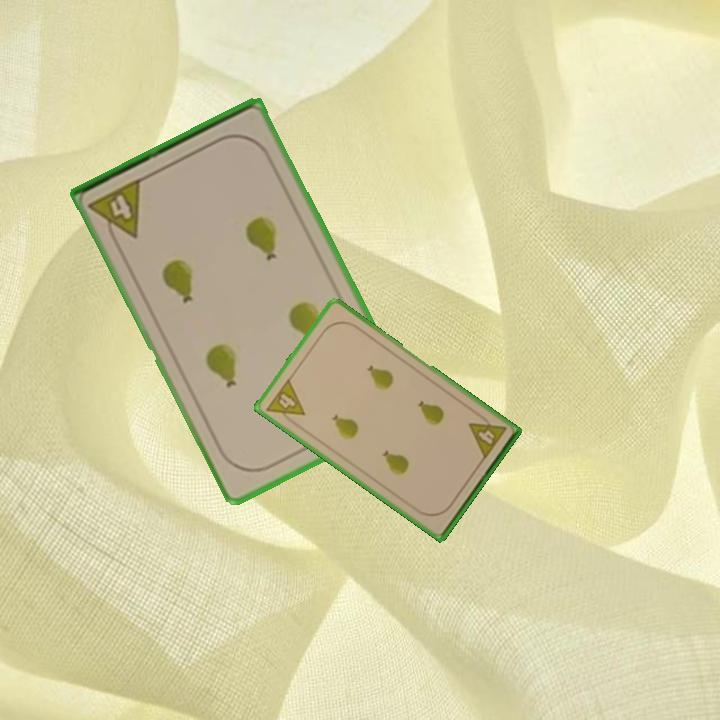4p: (85, 174, 146, 249), (263, 375, 308, 429), (465, 410, 509, 462)
